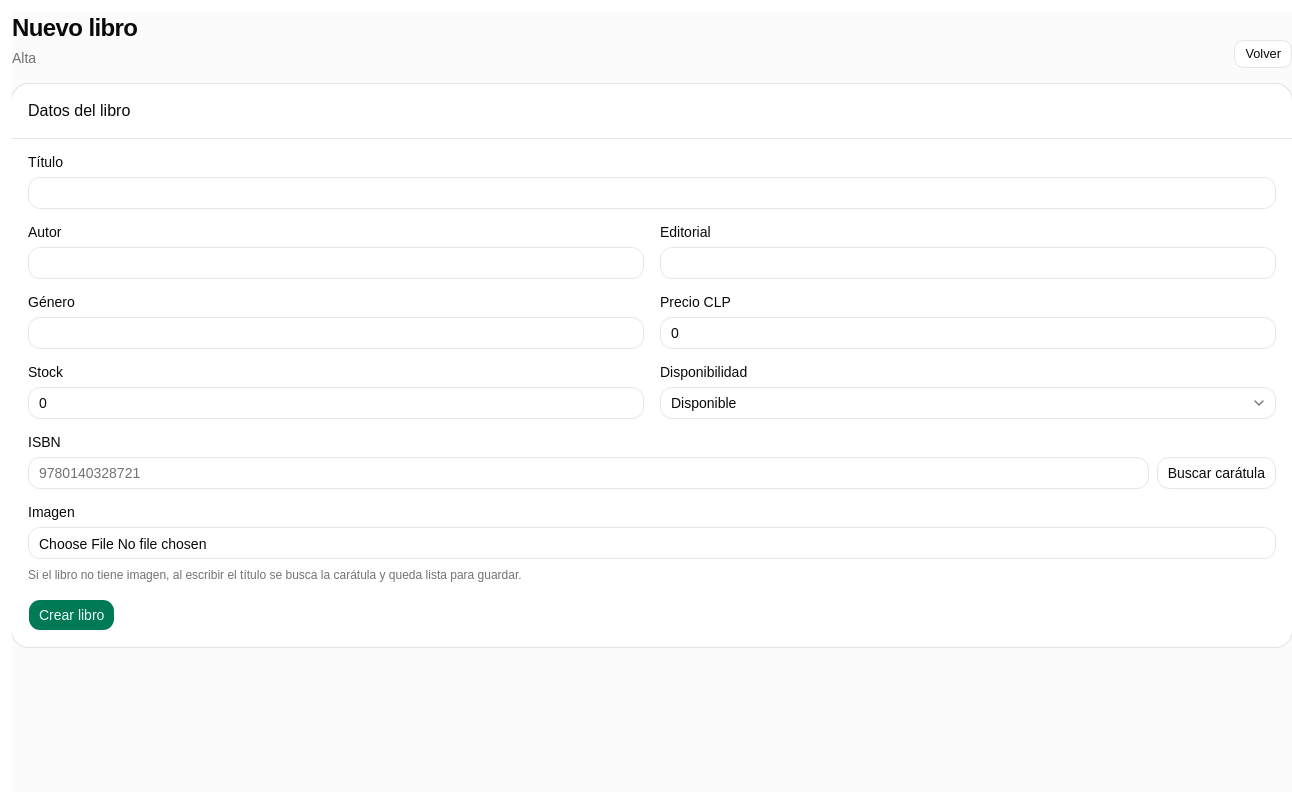
Scenario: BookFormPage › al escribir el título trae la carátula si no hay imagen
The width and height of the screenshot is (1292, 792).
In the field labelled "Título": [652, 193] box 28,177 -> 1276,209, type "Rayuela"
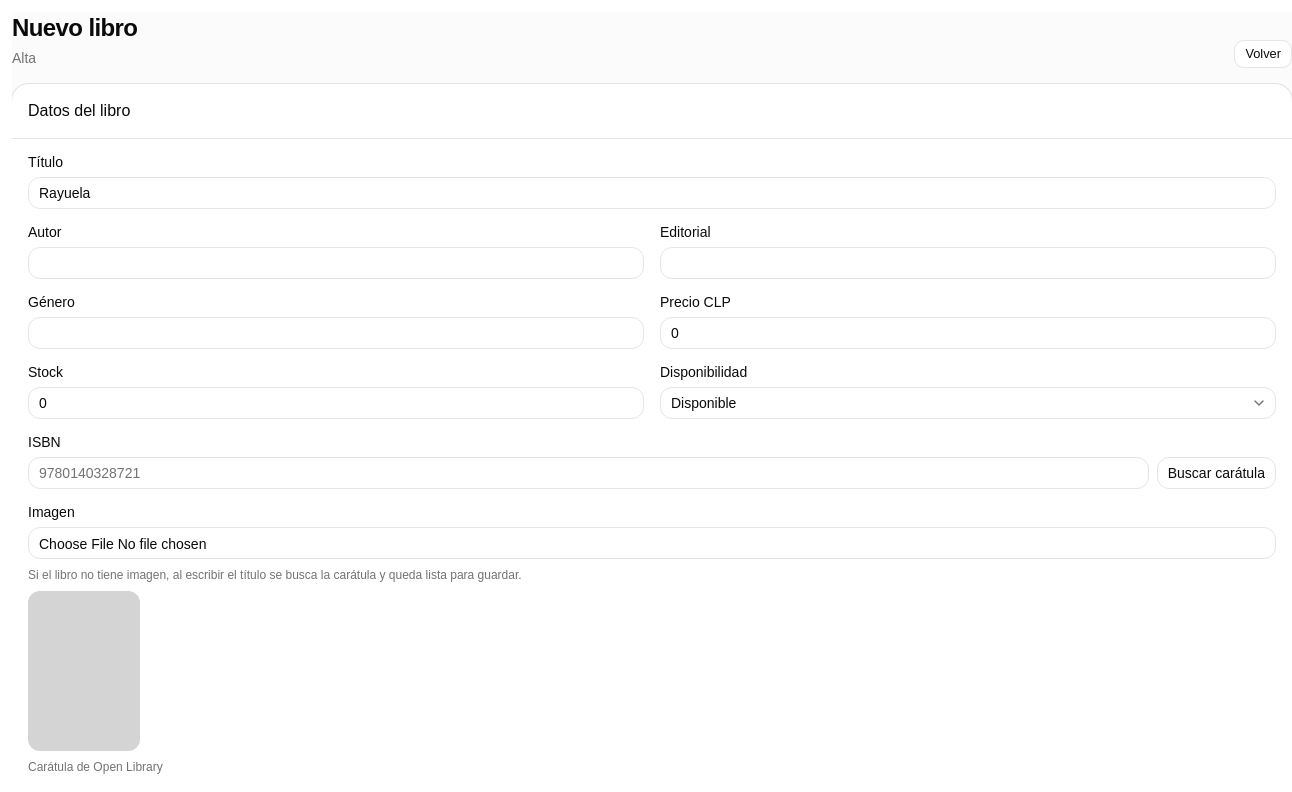
Now the text "Carátula de Open Library" is shown, box 28,760 -> 163,774
